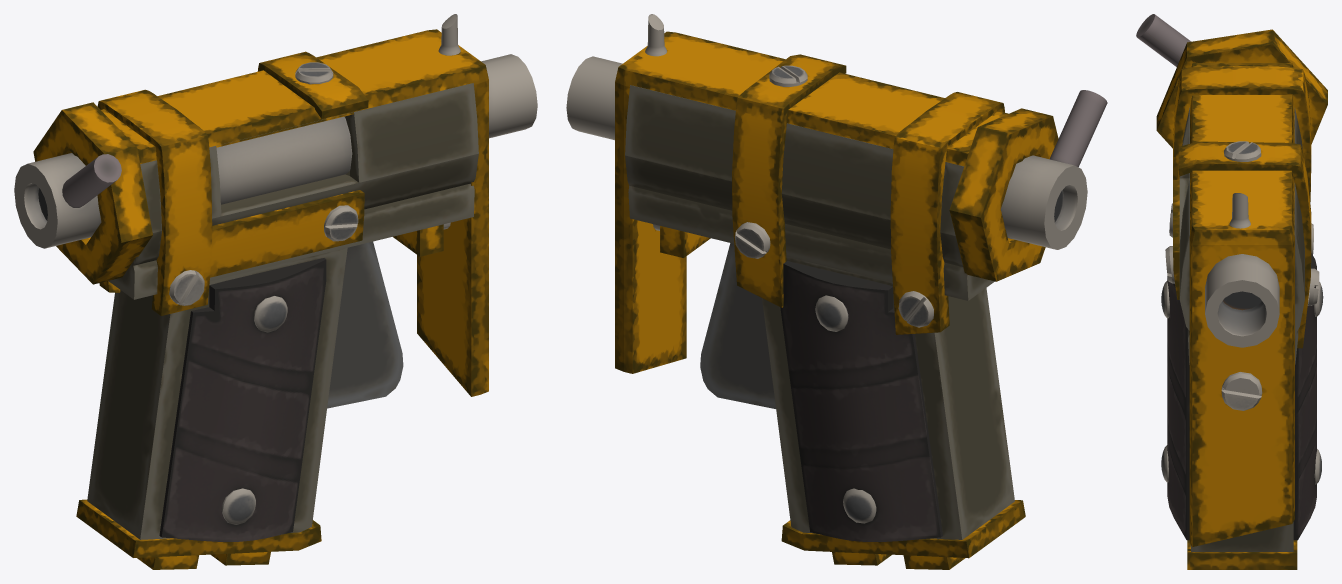
The model's file is Gun.glb.
The picture shows the model from 3 angles, left to right: view 1: azimuth 30°, elevation 25°; view 2: azimuth 150°, elevation 25°; view 3: azimuth 270°, elevation 25°; orthographic projection. The views are drawn at different scales.
Visible parts, largest first — view 1: Inaly, Top Frame, Handle, Receiver, Side Frame, Bolt, Fastener, Trigger, Magazine Holder, Barrel, Side Frame 2, Pin (+9 smaller); view 2: Inaly, Receiver, Top Frame, Handle, Side Frame, Side Frame 2, Fastener, Trigger, Bolt, Magazine Holder, Barrel, Pin (+8 smaller); view 3: Top Frame, Inaly, Side Frame, Barrel, Fastener, Side Frame 2, Receiver, Magazine Holder, Handle, Pin, Screw 3.005, Screw 3.002 (+4 smaller).
Part boxes in pixels (x1,y1,x2,y2): Inaly: [159, 258, 326, 541]; Top Frame: [101, 29, 488, 396]; Handle: [87, 248, 347, 539]; Receiver: [109, 83, 478, 299]; Side Frame: [97, 89, 364, 315]; Bolt: [14, 116, 352, 248]; Fastener: [33, 102, 152, 284]; Trigger: [327, 241, 403, 408]; Magazine Holder: [76, 499, 321, 557]; Barrel: [481, 54, 537, 138]; Side Frame 2: [257, 51, 368, 118]; Pin: [62, 154, 121, 207]; Inaly: [780, 261, 942, 541]; Receiver: [625, 85, 994, 300]; Top Frame: [615, 31, 1008, 373]; Handle: [762, 256, 1014, 539]; Side Frame: [890, 92, 1004, 334]; Side Frame 2: [732, 54, 846, 307]; Fastener: [949, 108, 1058, 281]; Trigger: [700, 243, 775, 408]; Bolt: [1000, 155, 1087, 249]; Magazine Holder: [781, 500, 1025, 558]; Barrel: [566, 56, 622, 140]; Pin: [1049, 90, 1107, 167]; Top Frame: [1189, 63, 1294, 547]; Inaly: [1167, 253, 1316, 540]; Side Frame: [1173, 66, 1311, 299]; Barrel: [1205, 254, 1279, 347]; Fastener: [1156, 29, 1327, 148]; Side Frame 2: [1178, 141, 1311, 348]; Receiver: [1179, 107, 1304, 364]; Magazine Holder: [1187, 540, 1297, 569]; Handle: [1191, 522, 1293, 551]; Pin: [1136, 14, 1190, 66]; Screw 3.005: [1221, 372, 1262, 410]; Screw 3.002: [1224, 141, 1261, 161].
Size of the model in its own units: 2.11 by 2.03 by 0.7491.
Materials: 1 (1 with a texture image).
